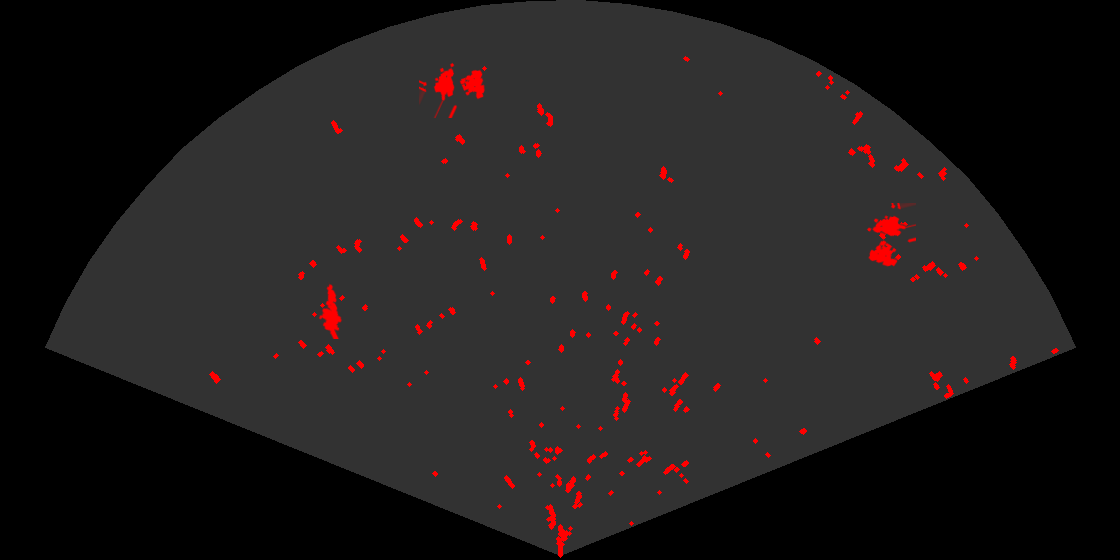cage: (419, 61, 487, 118), (865, 203, 916, 268)
frogman: (317, 282, 344, 339)
